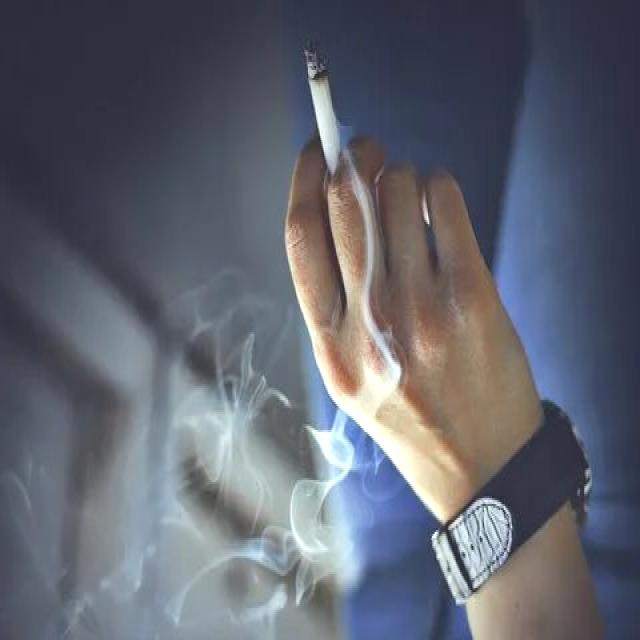smoke: (303, 34, 345, 190)
